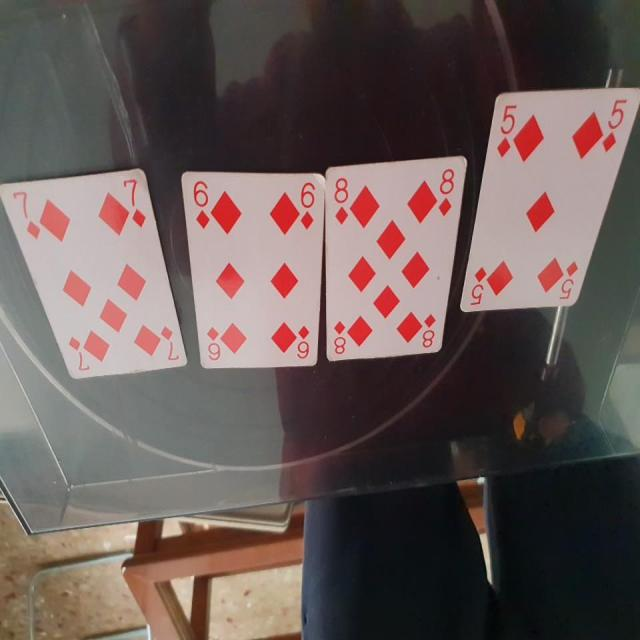5 Diamonds: (461, 84, 640, 312)
6 Diamonds: (180, 168, 326, 372)
7 Diamonds: (0, 167, 188, 380)
8 Diamonds: (325, 152, 469, 364)
